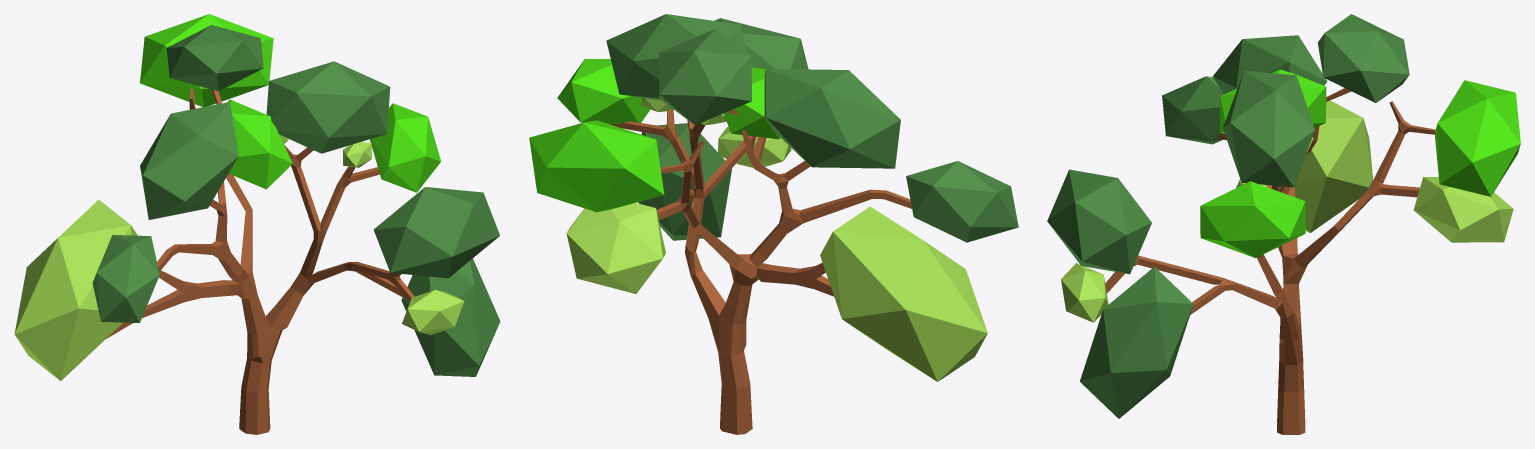
The model's file is lowTree_01.glb.
3 renders of one model, left to right at view 1: azimuth 30°, elevation 25°; view 2: azimuth 150°, elevation 25°; view 3: azimuth 270°, elevation 25°, orthographic. The views are drawn at different scales.
Parts seen in each view (by area): view 1: Cube, Icosphere.008, Icosphere.001, Icosphere.002, Icosphere.005, Icosphere.011, Icosphere, Icosphere.004, Icosphere.006, Icosphere.003, Icosphere.009, Icosphere.010 (+1 smaller); view 2: Icosphere.008, Cube, Icosphere.002, Icosphere.006, Icosphere.007, Icosphere, Icosphere.004, Icosphere.001, Icosphere.011, Icosphere.003, Icosphere.005, Icosphere.009 (+1 smaller); view 3: Icosphere.011, Cube, Icosphere.001, Icosphere.006, Icosphere.005, Icosphere.008, Icosphere.003, Icosphere, Icosphere.007, Icosphere.002, Icosphere.004, Icosphere.010 (+1 smaller).
Boxes of the visible parts, x1,y1,x2,y2 form: Cube: (105, 89, 414, 434); Icosphere.008: (14, 200, 137, 381); Icosphere.001: (266, 61, 390, 153); Icosphere.002: (140, 102, 238, 219); Icosphere.005: (373, 187, 499, 278); Icosphere.011: (401, 258, 500, 376); Icosphere: (166, 25, 263, 91); Icosphere.004: (92, 234, 159, 322); Icosphere.006: (140, 14, 273, 106); Icosphere.003: (370, 103, 440, 192); Icosphere.009: (227, 99, 292, 189); Icosphere.010: (402, 290, 464, 334); Icosphere.008: (820, 206, 987, 381); Cube: (609, 110, 911, 434); Icosphere.002: (764, 68, 900, 168); Icosphere.006: (529, 120, 664, 212); Icosphere.007: (566, 203, 665, 293); Icosphere: (659, 28, 751, 125); Icosphere.004: (906, 161, 1018, 242); Icosphere.001: (606, 14, 746, 100); Icosphere.011: (638, 123, 731, 240); Icosphere.003: (557, 59, 650, 123); Icosphere.005: (714, 18, 808, 69); Icosphere.009: (723, 67, 780, 139); Icosphere.011: (1080, 266, 1193, 418); Cube: (1105, 88, 1435, 434); Icosphere.001: (1223, 70, 1314, 187); Icosphere.006: (1434, 80, 1520, 196); Icosphere.005: (1047, 169, 1151, 274); Icosphere.008: (1294, 100, 1372, 232); Icosphere.003: (1200, 181, 1305, 258); Icosphere: (1317, 14, 1409, 102); Icosphere.007: (1413, 177, 1513, 242); Icosphere.002: (1212, 35, 1327, 94); Icosphere.004: (1162, 76, 1223, 144); Icosphere.010: (1061, 263, 1108, 322).
Bounding box in the file's own units: 10.77 × 9.66 × 10.43.
